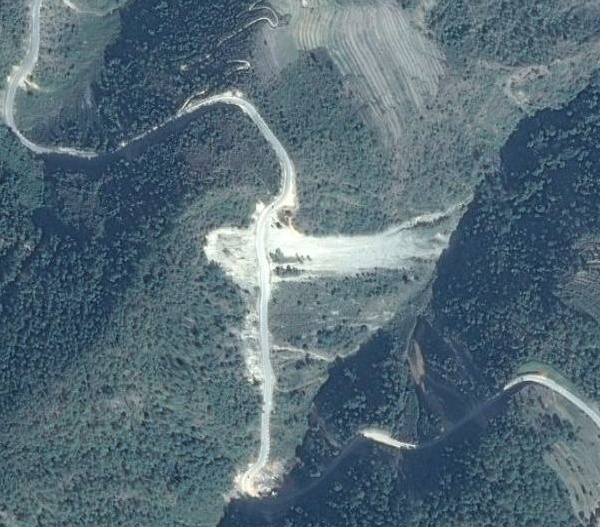slope: (266, 206, 450, 279), (205, 199, 266, 396), (236, 452, 301, 498), (361, 424, 420, 451), (407, 337, 426, 391)
